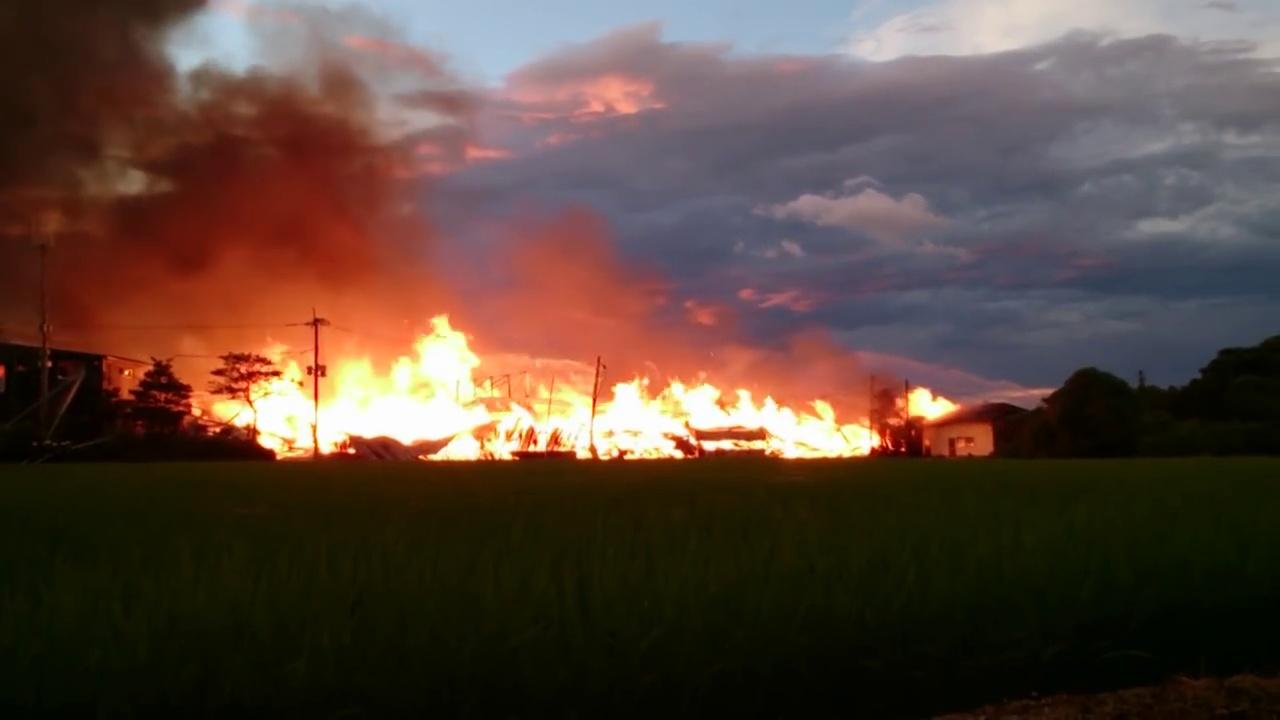fire: (182, 330, 933, 468)
smoke: (3, 0, 465, 318)
